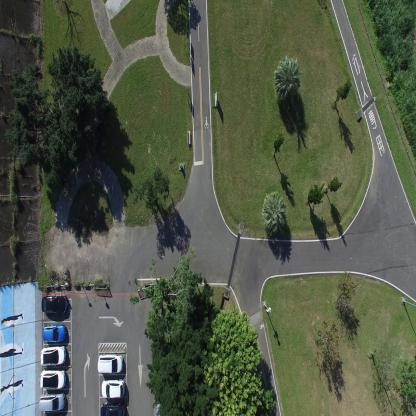car: (39, 367, 66, 390), (40, 344, 67, 367), (97, 353, 124, 375), (38, 392, 66, 412), (41, 294, 68, 314), (42, 323, 67, 343), (101, 378, 125, 396), (100, 401, 126, 415)
